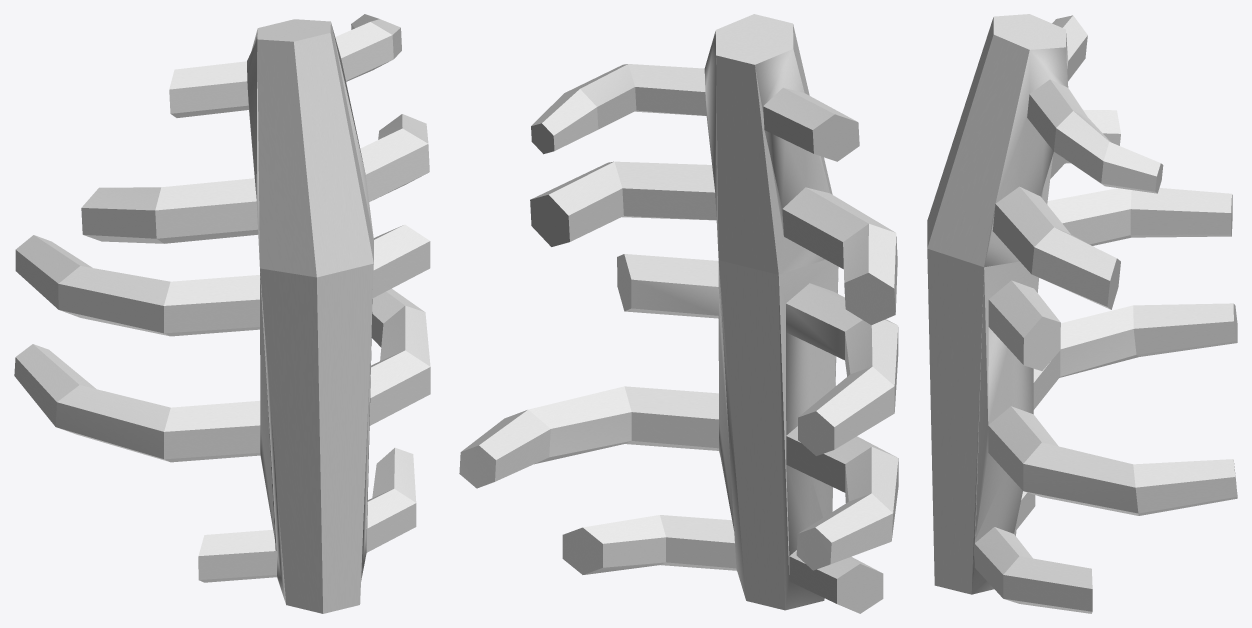
File: desert_share_bone_2.FBX
3 views of the same model, side by side, from view 1: azimuth 30°, elevation 25°; view 2: azimuth 150°, elevation 25°; view 3: azimuth 270°, elevation 25° (orthographic). The views are drawn at different scales.
Visible parts, largest first — view 1: bone_2; view 2: bone_2; view 3: bone_2.
Boxes of the visible parts, x1,y1,x2,y2 form: bone_2: (14, 14, 430, 613); bone_2: (459, 14, 898, 613); bone_2: (927, 14, 1237, 613).
Size of the model in its own units: 72.74 by 104 by 53.04.
